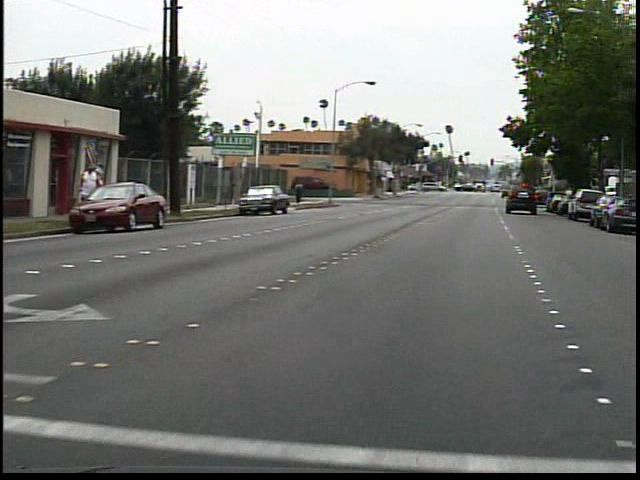person: (81, 158, 112, 225), (297, 177, 312, 207)
